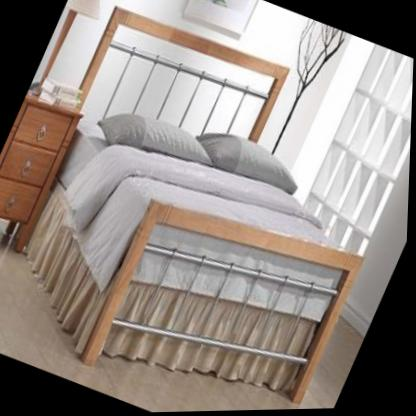Bed: (25, 18, 366, 408)
Nightstand: (0, 91, 84, 253)
